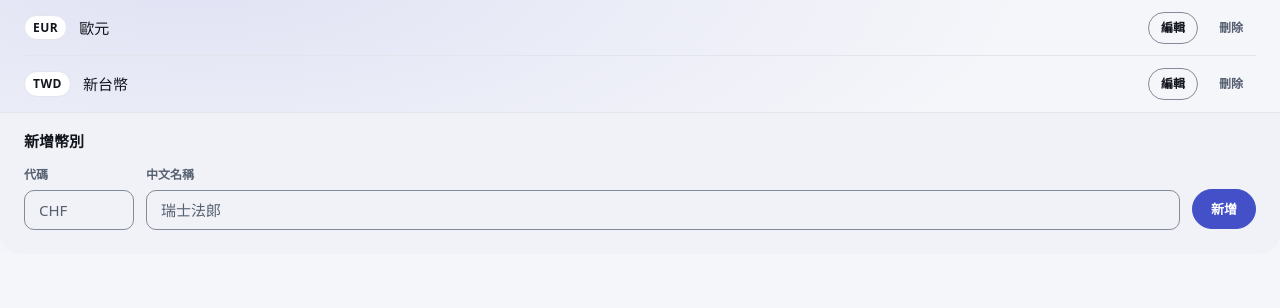
CurrencyManager (AC11 frontend) › shows the backend validation message next to each field (400)
The image size is (1280, 308).
In the field labelled "代碼": (79, 210) [24,190,134,230], type "US1"
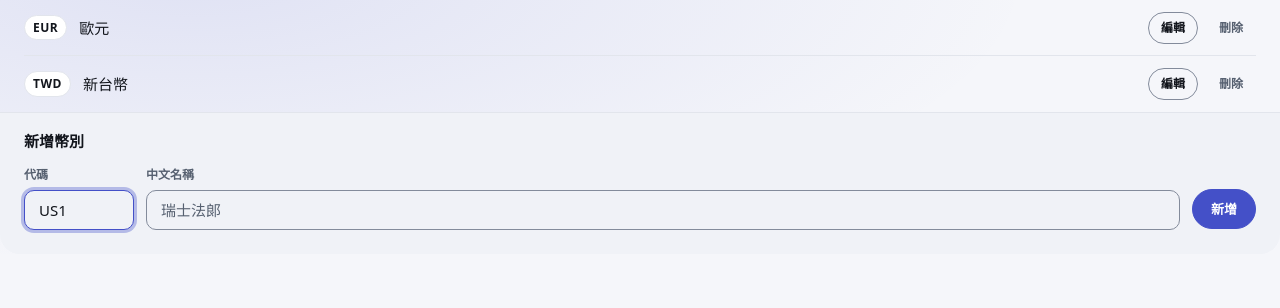
In the field labelled "中文名稱": (663, 210) [146,190,1180,230], type "x"
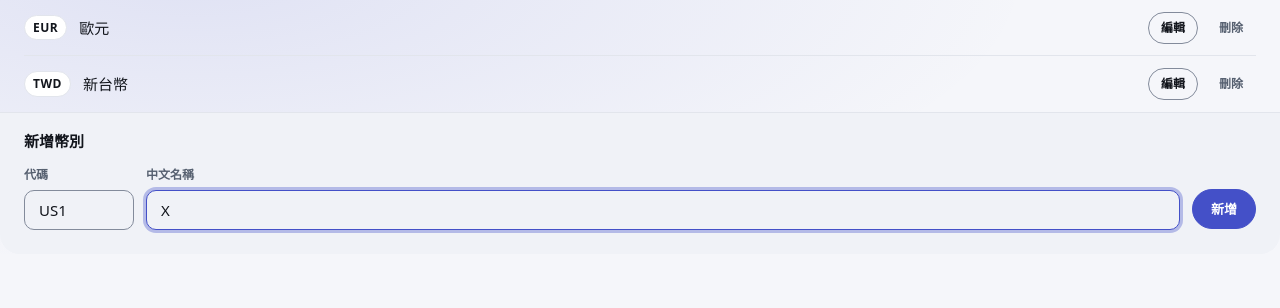
Click the button "新增": click(1224, 209) [1192,189,1256,229]
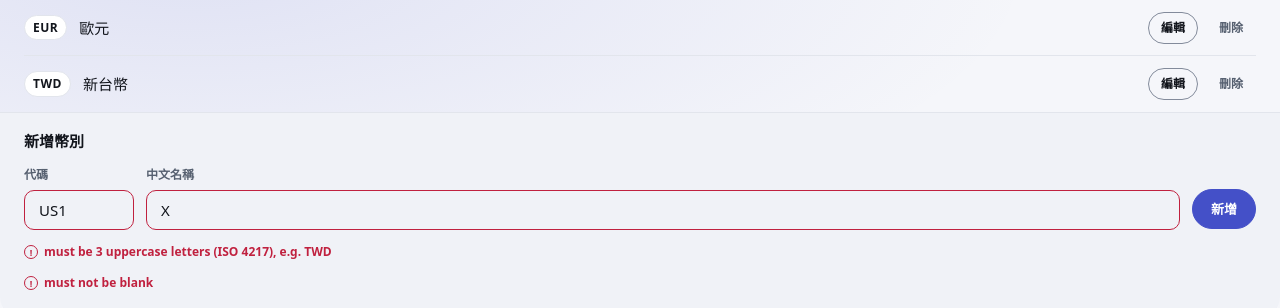
Check: the messages read "must be 3 uppercase letters (ISO 4217), e.g. TWD", "must not be blank", in this order, box [44,243,332,260]; [44,274,153,291]
